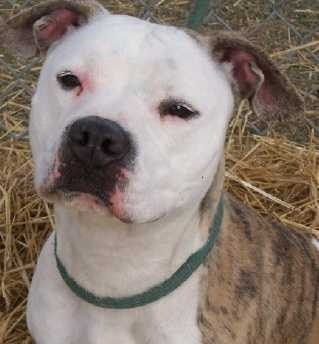dog: (0, 5, 296, 333)
